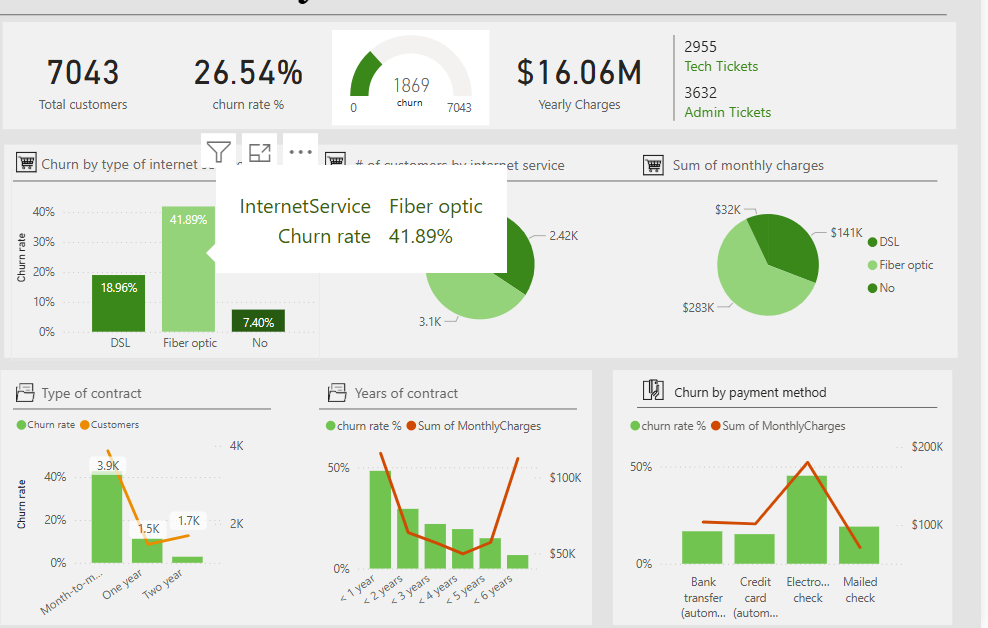

Layout of this report page (visuals, bound fields, positions):
{"tool":"powerbi","page":{"name":"Churn","canvas":[1280,720],"ordinal":0},"visuals":[{"type":"textbox","box":[87.7,4.9,1173.8,75],"z":0},{"type":"basicShape","box":[8.7,60.7,1253,40.5],"z":1000},{"type":"basicShape","box":[18.3,210,396.8,499.9],"z":2000},{"type":"card","fields":{"Values":["CountNonNull(churn.customerID)"]},"box":[18.5,99.4,170,102.3],"z":3000},{"type":"basicShape","box":[441.6,210,396.8,499.9],"z":4000},{"type":"basicShape","box":[864.9,210,396.8,499.9],"z":5000},{"type":"textbox","box":[508.5,228.6,314.9,35.6],"z":6000},{"type":"basicShape","box":[450.7,248.9,381.4,39.5],"z":7000},{"type":"image","box":[461.3,226.3,47.2,39.5],"z":8000},{"type":"textbox","box":[932.7,228.6,314.9,35.6],"z":9000},{"type":"basicShape","box":[877.4,248.9,381.4,39.5],"z":10000},{"type":"textbox","box":[88,228.6,314.9,35.6],"z":11000},{"type":"basicShape","box":[30.2,248.9,381.4,39.5],"z":12000},{"type":"image","box":[883.2,220.6,42.4,43.3],"z":13000},{"type":"image","box":[43.3,220.6,40.5,44.3],"z":14000},{"type":"donutChart","fields":{"Category":["churn.gender"],"Y":["CountNonNull(churn.gender)"]},"box":[43.8,286,201.3,156.6],"z":15000},{"type":"card","fields":{"Values":["churn.SeniorCitizen in %"]},"box":[271.4,268.7,128.1,100.2],"z":16000},{"type":"card","fields":{"Values":["churn.Partner in %"]},"box":[271.4,338.1,128.4,100.2],"z":17000},{"type":"card","fields":{"Values":["churn.Dependents in %"]},"box":[271.4,407.5,128.4,100.2],"z":18000},{"type":"clusteredBarChart","fields":{"Category":["churn.Contract"],"Y":["CountNonNull(churn.Contract)"]},"box":[461.3,577.9,370.8,131.9],"z":19000},{"type":"clusteredBarChart","fields":{"Y":["CountNonNull(churn.PaymentMethod)"],"Category":["churn.PaymentMethod"]},"box":[461.3,286,370.8,148.3],"z":20000},{"type":"textbox","box":[461.3,269.7,314.9,35.6],"z":21000},{"type":"textbox","box":[461.3,424.7,204.2,35.6],"z":22000},{"type":"donutChart","fields":{"Category":["churn.PaperlessBilling"],"Y":["CountNonNull(churn.PaperlessBilling)"]},"box":[461.3,438.2,204.2,139.7],"z":23000},{"type":"multiRowCard","fields":{"Values":["Avg(churn.MonthlyCharges)","Avg(churn.TotalCharges)"]},"box":[674.2,460.4,149.3,95.3],"z":24000},{"type":"textbox","box":[461.3,572.1,314.9,35.6],"z":25000},{"type":"pieChart","fields":{"Category":["churn.InternetService"],"Y":["Divide(CountNonNull(churn.InternetService), ScopedEval(CountNonNull(churn.InternetService), []))"]},"box":[1040.4,492.9,205.5,203.6],"z":26000},{"type":"card","fields":{"Values":["churn.Multiple Lines in %"]},"box":[1172.8,276.4,72.2,62.6],"z":27000},{"type":"card","fields":{"Values":["churn.Multiple lines no in %"]},"box":[1093.1,276.4,72.2,61.6],"z":28000},{"type":"textbox","box":[971.7,278.2,129.4,27.2],"z":29000},{"type":"textbox","box":[1092.2,311,73.2,35.6],"z":30000},{"type":"textbox","box":[1172.8,311,73.2,35.6],"z":31000},{"type":"textbox","box":[674.2,424.7,148.3,35.6],"z":32000},{"type":"multiRowCard","fields":{"Values":["churn.Phone Service in %","churn.Streaming TV in %","churn.Streaming Movies in %","churn.Device protection in %","churn.Online Bacup in %","churn.Tech Support in %","churn.Online Sec. in %"]},"box":[882.2,286,165.3,414.3],"z":33000},{"type":"basicShape","box":[990.2,300.5,97.3,28.2],"z":34000},{"type":"basicShape","box":[1063.1,296.7,37.9,32.1],"z":35000},{"type":"clusteredBarChart","fields":{"Y":["CountNonNull(churn.Churn)"],"Category":["churn.Loyalty"]},"box":[37,507.7,365.7,179],"z":36000},{"type":"textbox","box":[43.8,478.5,314.2,35],"z":37000},{"type":"actionButton","box":[1246.1,680.1,31.6,39.5],"z":39000},{"type":"card","fields":{"Values":["Sum(churn.MonthlyCharges)"]},"box":[1083.9,99.4,170,102.3],"z":41000},{"type":"card","fields":{"Values":["Sum(churn.numTechTickets)"]},"box":[222.8,99.4,170,102.3],"z":44000},{"type":"card","fields":{"Values":["Sum(churn.numAdminTickets)"]},"box":[427.1,99.4,170,102.3],"z":45000},{"type":"card","fields":{"Values":["Sum(churn.TotalCharges)"]},"box":[879.7,99.4,170,102.3],"z":46000}]}

Visuals, with their boxes on the page's 1280x720 design canvas (x1, y1, x2, y2). These are canvas units, not pixel positions in the 988x628 screenshot, which may show the page scaled, cropped or inside an application window:
textbox: left=88, top=5, right=1262, bottom=80
basicShape: left=9, top=61, right=1262, bottom=101
basicShape: left=18, top=210, right=415, bottom=710
card - CountNonNull(churn.customerID): left=18, top=99, right=188, bottom=202
basicShape: left=442, top=210, right=838, bottom=710
basicShape: left=865, top=210, right=1262, bottom=710
textbox: left=508, top=229, right=823, bottom=264
basicShape: left=451, top=249, right=832, bottom=288
image: left=461, top=226, right=508, bottom=266
textbox: left=933, top=229, right=1248, bottom=264
basicShape: left=877, top=249, right=1259, bottom=288
textbox: left=88, top=229, right=403, bottom=264
basicShape: left=30, top=249, right=412, bottom=288
image: left=883, top=221, right=926, bottom=264
image: left=43, top=221, right=84, bottom=265
donutChart - churn.gender x CountNonNull(churn.gender): left=44, top=286, right=245, bottom=443
card - churn.SeniorCitizen in %: left=271, top=269, right=400, bottom=369
card - churn.Partner in %: left=271, top=338, right=400, bottom=438
card - churn.Dependents in %: left=271, top=408, right=400, bottom=508
clusteredBarChart - churn.Contract x CountNonNull(churn.Contract): left=461, top=578, right=832, bottom=710
clusteredBarChart - CountNonNull(churn.PaymentMethod) x churn.PaymentMethod: left=461, top=286, right=832, bottom=434
textbox: left=461, top=270, right=776, bottom=305
textbox: left=461, top=425, right=666, bottom=460
donutChart - churn.PaperlessBilling x CountNonNull(churn.PaperlessBilling): left=461, top=438, right=666, bottom=578
multiRowCard - Avg(churn.MonthlyCharges) x Avg(churn.TotalCharges): left=674, top=460, right=824, bottom=556
textbox: left=461, top=572, right=776, bottom=608
pieChart - churn.InternetService x Divide(CountNonNull(churn.InternetService), ScopedEval(CountNonNull(churn.InternetService), [])): left=1040, top=493, right=1246, bottom=696
card - churn.Multiple Lines in %: left=1173, top=276, right=1245, bottom=339
card - churn.Multiple lines no in %: left=1093, top=276, right=1165, bottom=338
textbox: left=972, top=278, right=1101, bottom=305
textbox: left=1092, top=311, right=1165, bottom=347
textbox: left=1173, top=311, right=1246, bottom=347
textbox: left=674, top=425, right=822, bottom=460
multiRowCard - churn.Phone Service in % x churn.Streaming TV in %: left=882, top=286, right=1048, bottom=700
basicShape: left=990, top=300, right=1088, bottom=329
basicShape: left=1063, top=297, right=1101, bottom=329
clusteredBarChart - CountNonNull(churn.Churn) x churn.Loyalty: left=37, top=508, right=403, bottom=687
textbox: left=44, top=478, right=358, bottom=514
actionButton: left=1246, top=680, right=1278, bottom=720
card - Sum(churn.MonthlyCharges): left=1084, top=99, right=1254, bottom=202
card - Sum(churn.numTechTickets): left=223, top=99, right=393, bottom=202
card - Sum(churn.numAdminTickets): left=427, top=99, right=597, bottom=202
card - Sum(churn.TotalCharges): left=880, top=99, right=1050, bottom=202
